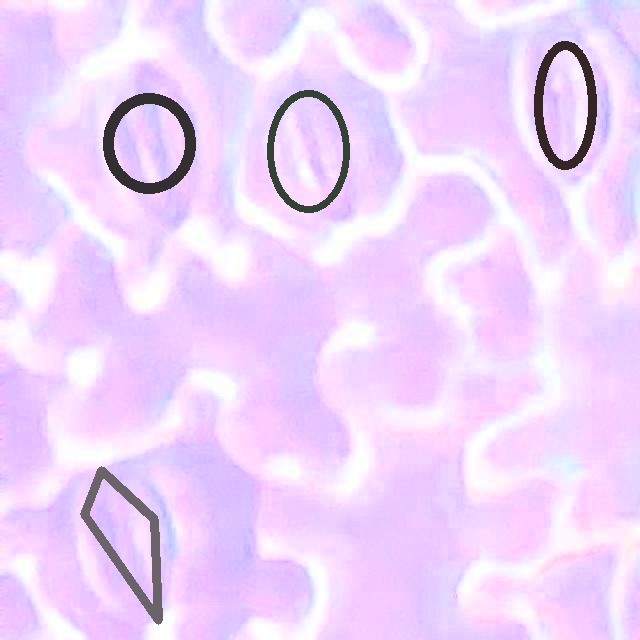open: (81, 466, 158, 624), (266, 90, 349, 212), (103, 93, 195, 193), (533, 40, 597, 170)
